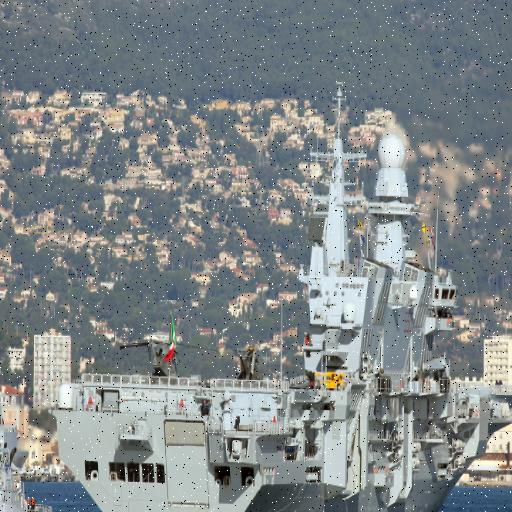Portanaves: (53, 74, 512, 512)
